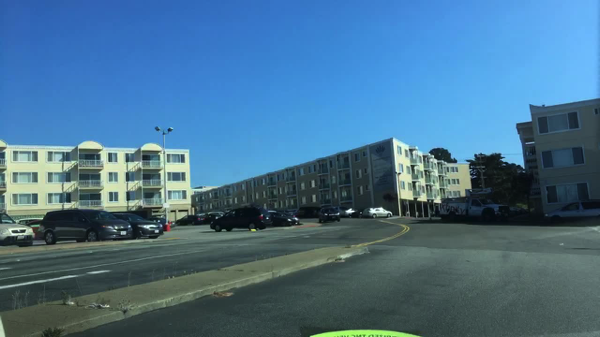car: (39, 206, 132, 244), (209, 205, 274, 233), (111, 212, 165, 239), (543, 197, 599, 221), (0, 211, 36, 245), (174, 212, 207, 226), (267, 209, 292, 227), (360, 206, 393, 219), (316, 206, 341, 223), (277, 209, 301, 224), (150, 215, 172, 228), (16, 219, 44, 228), (339, 207, 360, 217), (200, 215, 222, 224), (207, 211, 225, 215), (509, 205, 517, 213), (515, 204, 522, 212), (521, 201, 526, 211), (192, 213, 207, 216)
truck: (438, 194, 511, 224)
